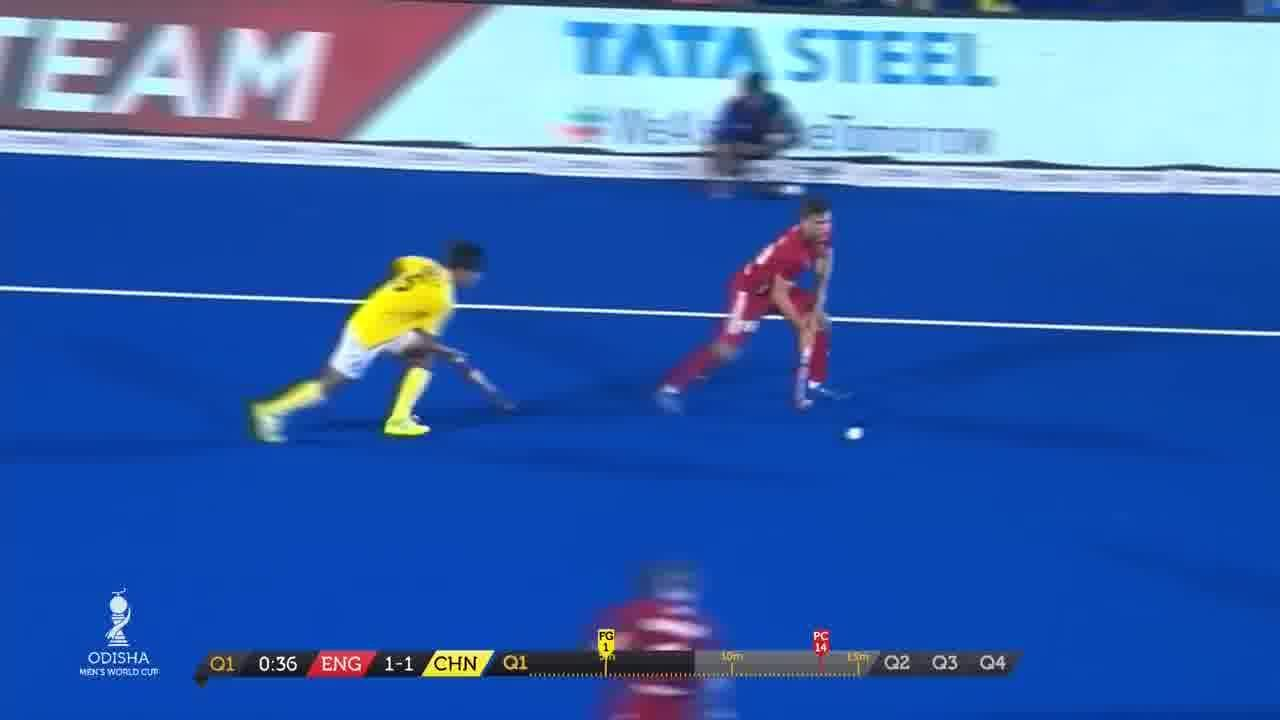ball: (839, 416, 872, 446)
